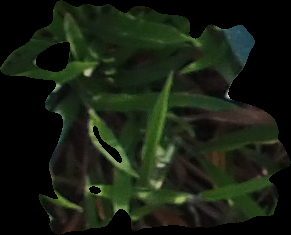grass: (1, 1, 289, 233)
